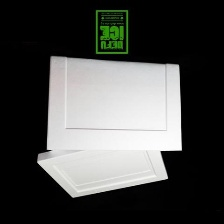foam_box: (32, 52, 189, 201)
